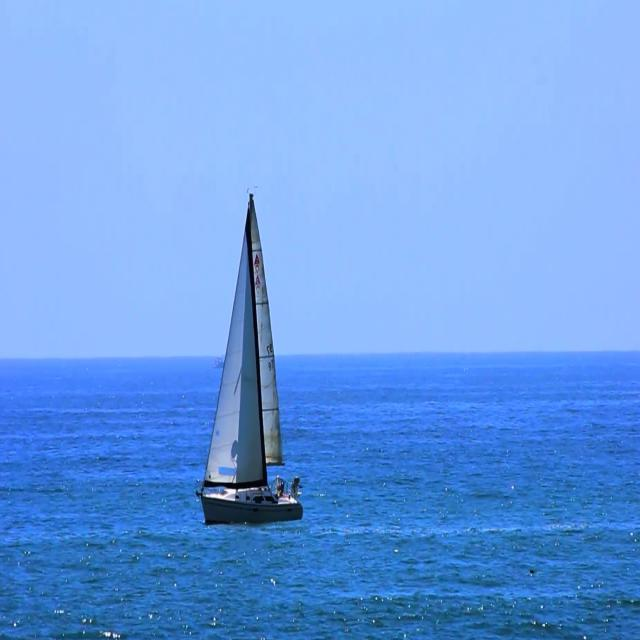houseboat: (213, 350, 227, 372)
sailboat: (200, 182, 306, 528)
